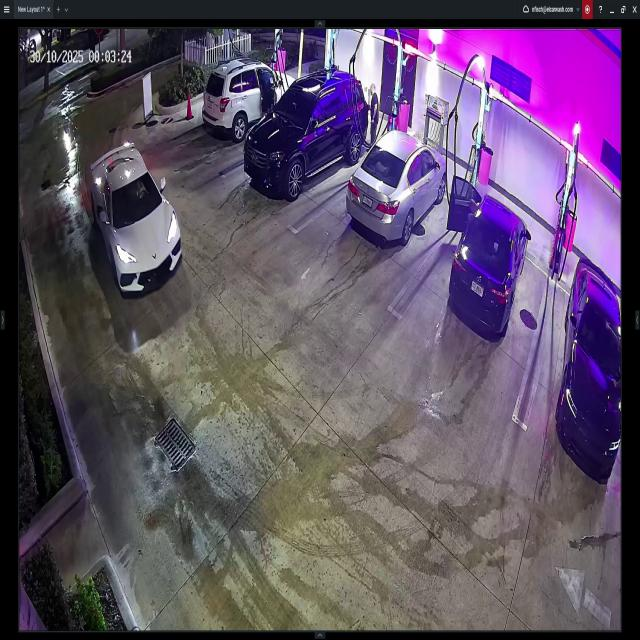Car: (244, 67, 368, 195), (89, 142, 181, 296), (556, 257, 618, 479), (446, 172, 528, 338), (351, 120, 446, 242), (202, 59, 296, 137)
